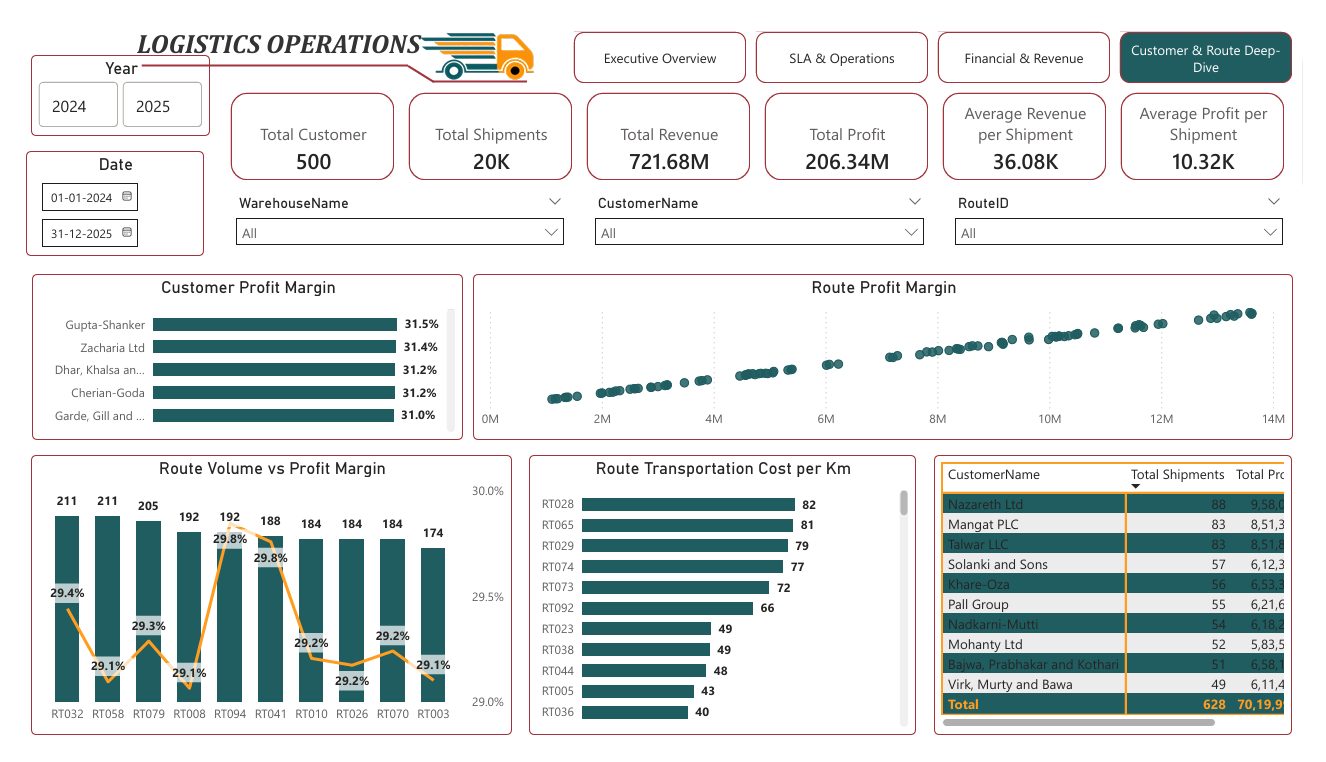

The page's visual inventory and layout, read from the dashboard file:
{"tool":"powerbi","page":{"name":"Customer & Route Deep-Dive","canvas":[1280,720],"ordinal":3},"visuals":[{"type":"image","box":[395.7,0,120,64.3],"z":0,"group":"g1"},{"type":"shape","box":[118.3,27.5,268.3,29.2],"z":0,"group":"g2"},{"type":"shape","box":[409.1,48.3,95.8,19.2],"z":1000,"group":"g2"},{"type":"shape","box":[383.8,41.2,28.5,18.1],"z":2000,"group":"g2"},{"type":"slicer","title":"Date","fields":{"Values":["DimDate.Date"]},"box":[2.7,127.6,178.4,105.7],"z":2000},{"type":"slicer","fields":{"Values":["DimWarehouse.WarehouseName"]},"box":[202.8,166.7,348.3,65.9],"z":3000},{"type":"slicer","fields":{"Values":["DimCustomer.CustomerName"]},"box":[562.3,166.7,348.3,66],"z":4000},{"type":"slicer","fields":{"Values":["DimRoute.RouteID"]},"box":[921.8,166.7,348.3,66],"z":5000},{"type":"advancedSlicerVisual","fields":{"Values":["DimDate.Year"]},"box":[8.2,31.6,178.4,81],"z":6000},{"type":"cardVisual","fields":{"Data":["Measure.Total Customer","Measure.Total Shipments","Measure.Total Revenue","Measure.Total Profit","Measure.Average Revenue per Shipment","Measure.Average Profit per Shipment"]},"box":[202.8,64.7,1067.3,97],"z":7000},{"type":"clusteredBarChart","title":"Customer Profit Margin","fields":{"Category":["DimCustomer.CustomerName"],"Y":["Measure.Profit Margin %"]},"box":[8.7,251.3,431.7,165.4],"z":8000},{"type":"lineClusteredColumnComboChart","title":"Route Volume vs Profit Margin","fields":{"Category":["DimRoute.RouteID"],"Y":["Measure.Total Shipments"],"Y2":["Measure.Profit Margin %"]},"box":[8.2,432.2,480.3,279.9],"z":9000},{"type":"scatterChart","title":"Route Profit Margin","fields":{"X":["Measure.Total Revenue"],"Y":["Measure.Total Profit"],"Category":["DimRoute.RouteID"]},"box":[450.3,251.3,819.8,165.4],"z":10000},{"type":"clusteredBarChart","title":"Route Transportation Cost per Km","fields":{"Category":["DimRoute.RouteID"],"Y":["Measure.Transportation Cost per Km"]},"box":[506.3,431.7,354.5,281.1],"z":11000},{"type":"pivotTable","fields":{"Values":["Measure.Total Shipments","Measure.Total Profit"],"Rows":["DimCustomer.CustomerName"]},"box":[869.5,431.7,399.3,281.1],"z":12000},{"type":"pageNavigator","box":[551.4,8.6,718.6,51.4],"z":13000},{"type":"group","id":"g1","title":"Group 2","box":[97.1,0,418.6,67.5],"z":14001},{"type":"textbox","box":[97.1,0,311.4,57.1],"z":15000,"group":"g1"},{"type":"group","id":"g2","title":"Group 1","box":[118.3,27.5,386.7,40],"z":17002,"group":"g1"}]}

Visuals, with their boxes in screenshot pixels (x1, y1, x2, y2), scaled from the page's 1280x720 canvas onto the 1326x762 screenshot:
image: {"left": 410, "top": 0, "right": 534, "bottom": 68}
shape: {"left": 123, "top": 29, "right": 400, "bottom": 60}
shape: {"left": 424, "top": 51, "right": 523, "bottom": 71}
shape: {"left": 398, "top": 44, "right": 427, "bottom": 63}
"Date" slicer: {"left": 3, "top": 135, "right": 188, "bottom": 247}
slicer - DimWarehouse.WarehouseName: {"left": 210, "top": 176, "right": 571, "bottom": 246}
slicer - DimCustomer.CustomerName: {"left": 583, "top": 176, "right": 943, "bottom": 246}
slicer - DimRoute.RouteID: {"left": 955, "top": 176, "right": 1316, "bottom": 246}
advancedSlicerVisual - DimDate.Year: {"left": 8, "top": 33, "right": 193, "bottom": 119}
cardVisual - Measure.Total Customer x Measure.Total Shipments: {"left": 210, "top": 68, "right": 1316, "bottom": 171}
"Customer Profit Margin" clusteredBarChart: {"left": 9, "top": 266, "right": 456, "bottom": 441}
"Route Volume vs Profit Margin" lineClusteredColumnComboChart: {"left": 8, "top": 457, "right": 506, "bottom": 754}
"Route Profit Margin" scatterChart: {"left": 466, "top": 266, "right": 1316, "bottom": 441}
"Route Transportation Cost per Km" clusteredBarChart: {"left": 524, "top": 457, "right": 892, "bottom": 754}
pivotTable - Measure.Total Shipments x Measure.Total Profit: {"left": 901, "top": 457, "right": 1314, "bottom": 754}
pageNavigator: {"left": 571, "top": 9, "right": 1316, "bottom": 64}
"Group 2" group: {"left": 101, "top": 0, "right": 534, "bottom": 71}
textbox: {"left": 101, "top": 0, "right": 423, "bottom": 60}
"Group 1" group: {"left": 123, "top": 29, "right": 523, "bottom": 71}
